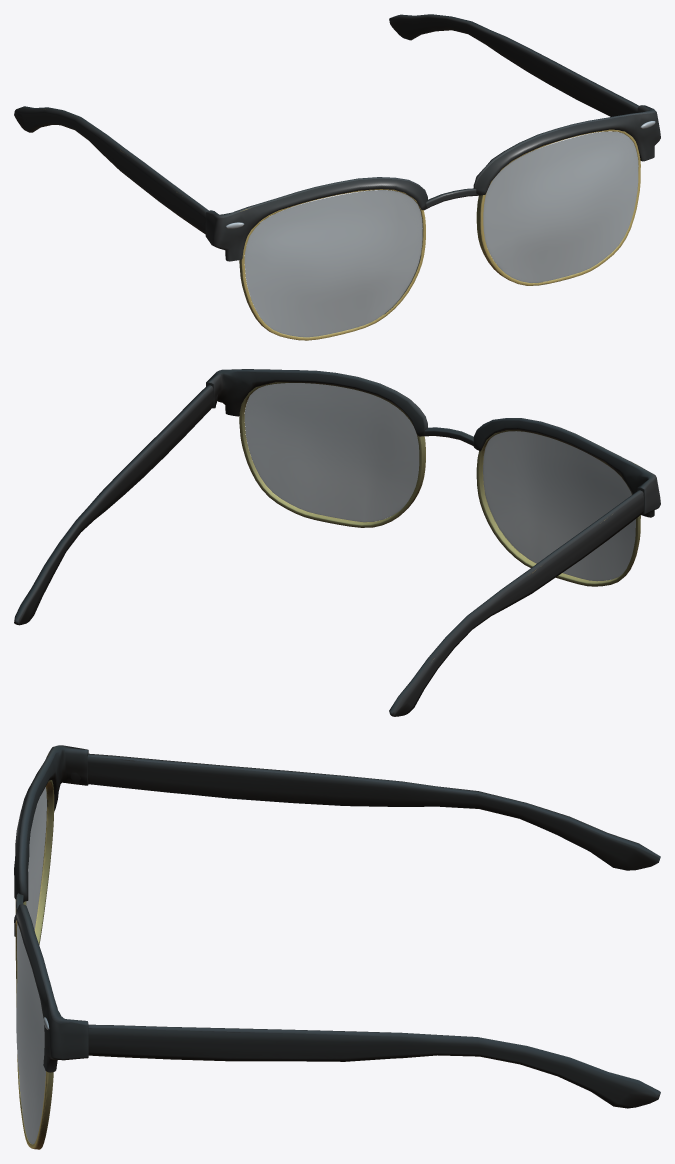
File: NormalGlasses.fbx
The picture shows the model from 3 angles, top to bottom: view 1: azimuth 30°, elevation 25°; view 2: azimuth 150°, elevation 25°; view 3: azimuth 270°, elevation 25°; orthographic projection. The views are drawn at different scales.
Parts seen in each view (by area): view 1: pPlane1, polySurface37, polySurface32, polySurface30; view 2: pPlane1, polySurface37, polySurface32, polySurface30; view 3: polySurface37, polySurface32, pPlane1, polySurface30.
Boxes of the visible parts, <box> form: pPlane1: <box>244,131,638,337</box>; polySurface37: <box>14,14,638,234</box>; polySurface32: <box>205,105,660,261</box>; polySurface30: <box>239,129,640,340</box>; pPlane1: <box>244,383,635,581</box>; polySurface37: <box>14,385,643,716</box>; polySurface32: <box>206,369,660,517</box>; polySurface30: <box>239,382,640,586</box>; polySurface37: <box>70,753,660,1108</box>; polySurface32: <box>14,745,88,1072</box>; pPlane1: <box>16,787,46,1144</box>; polySurface30: <box>15,780,54,1149</box>.
Size of the model in its own units: 52.88 by 17.09 by 51.36.
